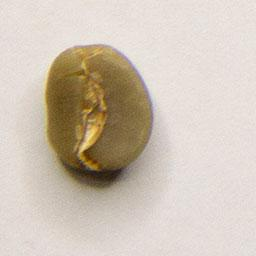premium: (40, 40, 157, 180)
